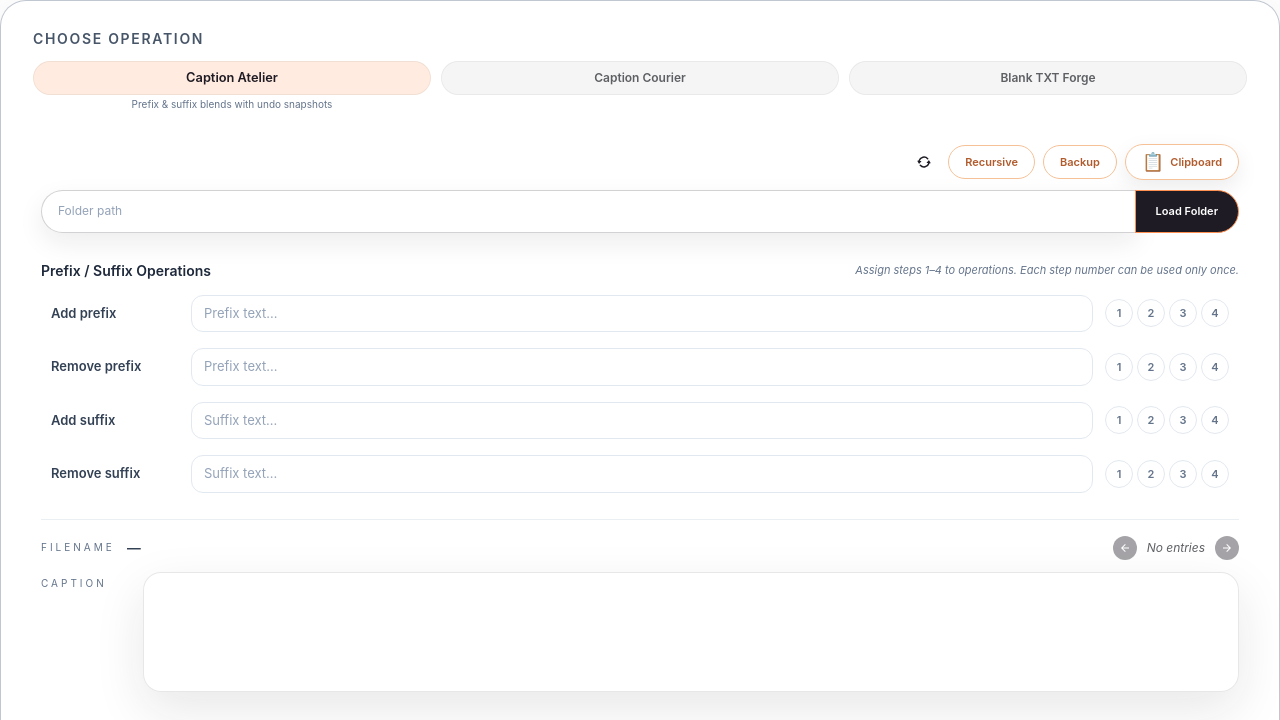
Test: DatasetActionsDashboard › shows step hints, toggles backup, and cycles the paginator
The image size is (1280, 720).
Click the button "1" in the row of "Add prefix": x=1119, y=313 1105,299 -> 1133,327
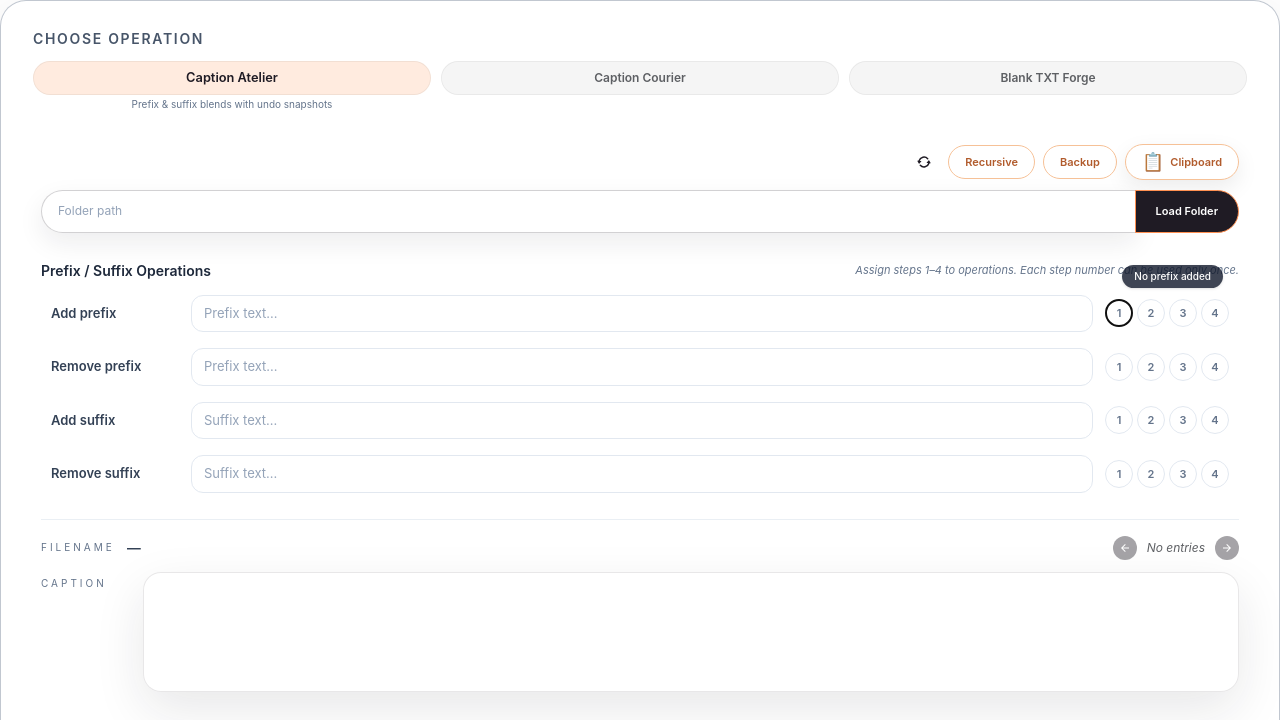
Expected: the text "No prefix added" is shown, 1122,264 -> 1223,288
Click the button "Backup": x=1080, y=162 1043,145 -> 1117,179
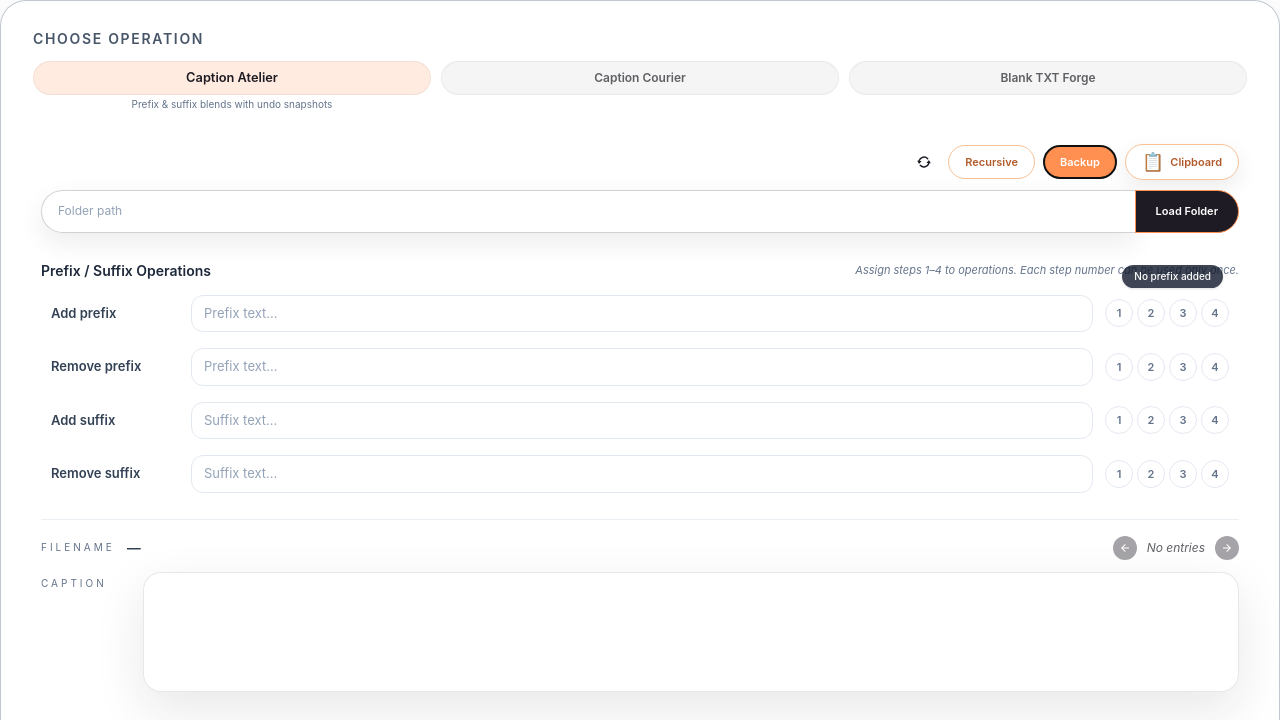
Expected: the button "Backup" has class "text-white", 1043,145 -> 1117,179
In the field named "caption folder path": x=588, y=211 41,190 -> 1136,232, type "/tmp/dataset"
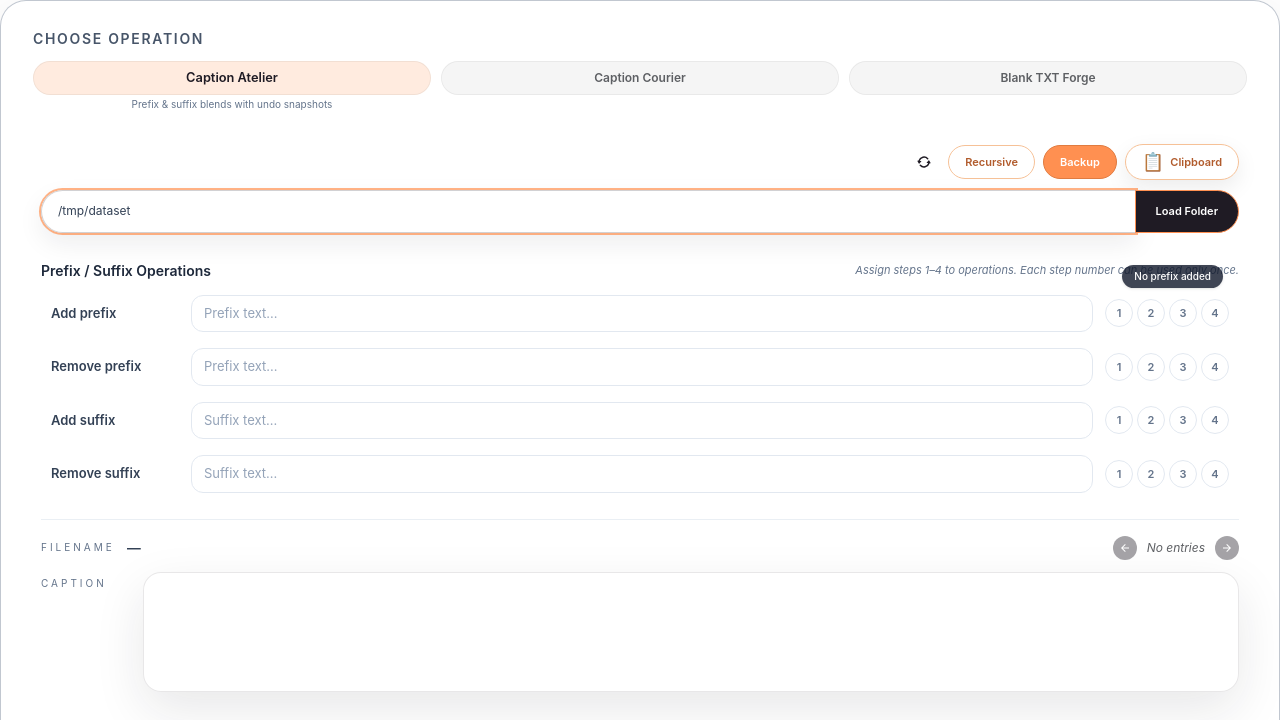
Click the button "Load Folder": x=1187, y=211 1135,190 -> 1239,232
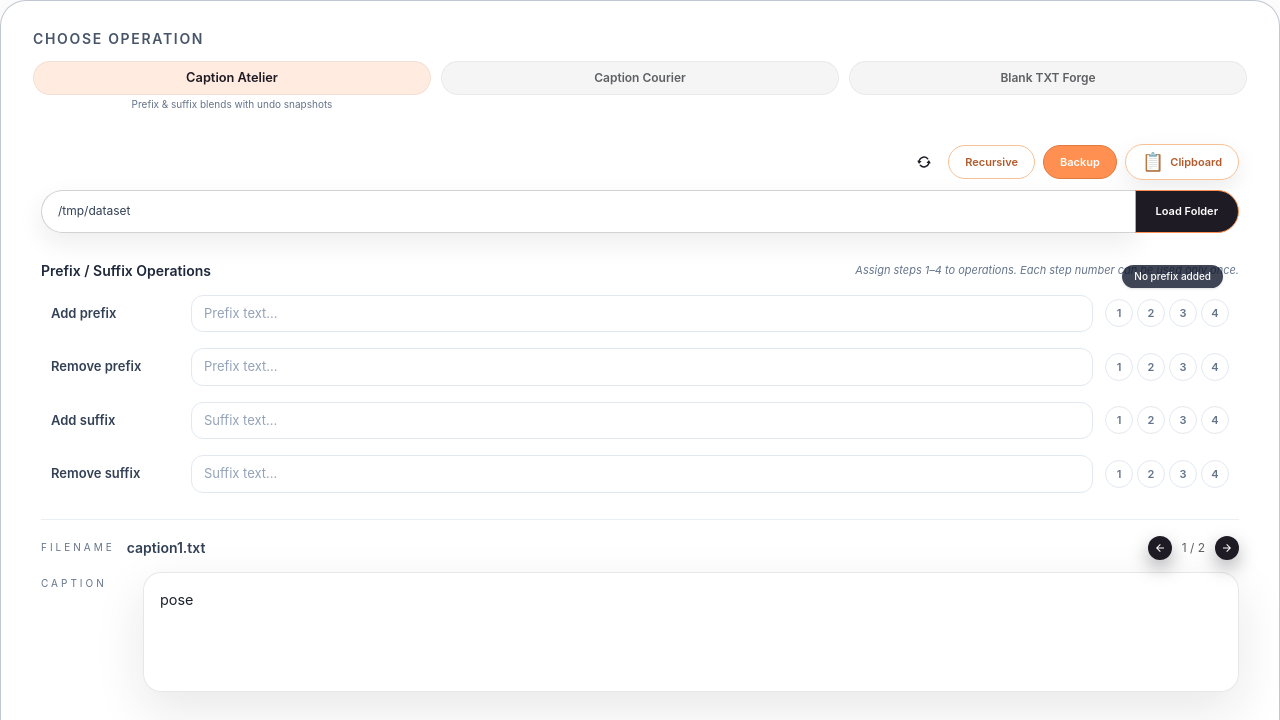
Expected: the text "caption1.txt" is shown, 127,538 -> 205,558
Click the button named "Next": x=1227, y=548 1215,536 -> 1239,560
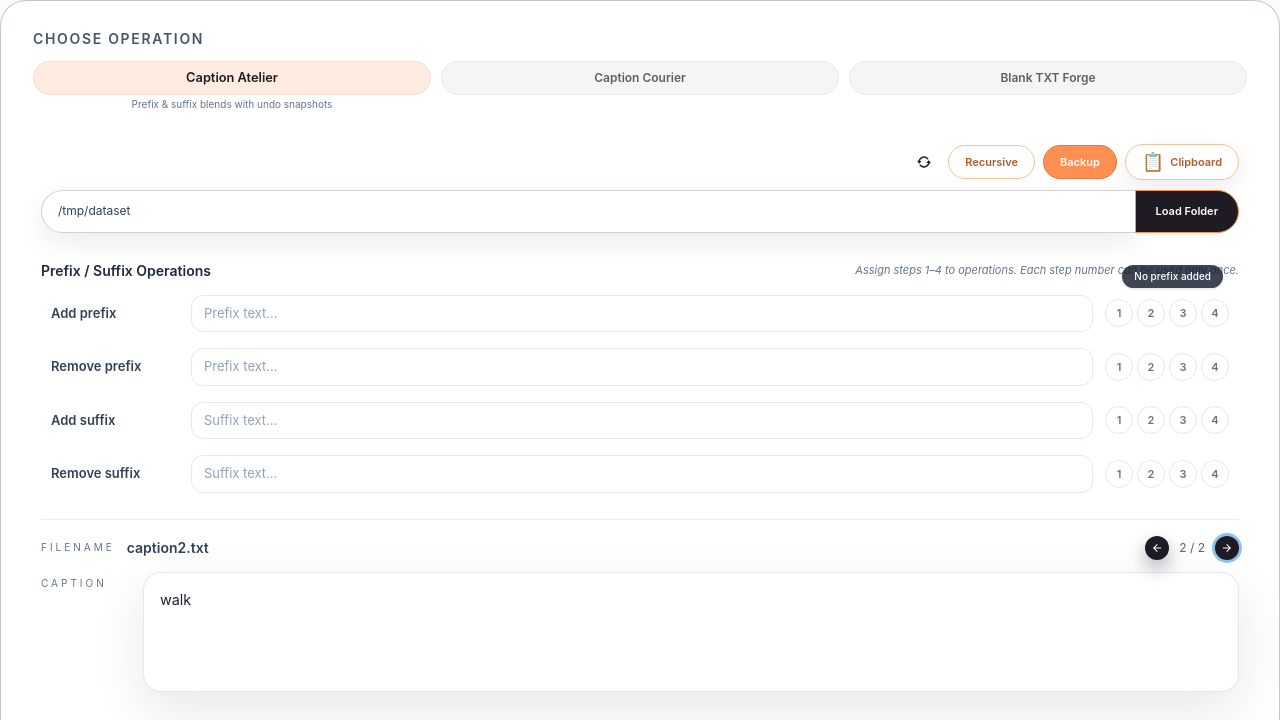
Expected: the text "caption2.txt" is shown, 127,538 -> 209,558
Click the button named "Previous": x=1157, y=548 1145,536 -> 1169,560
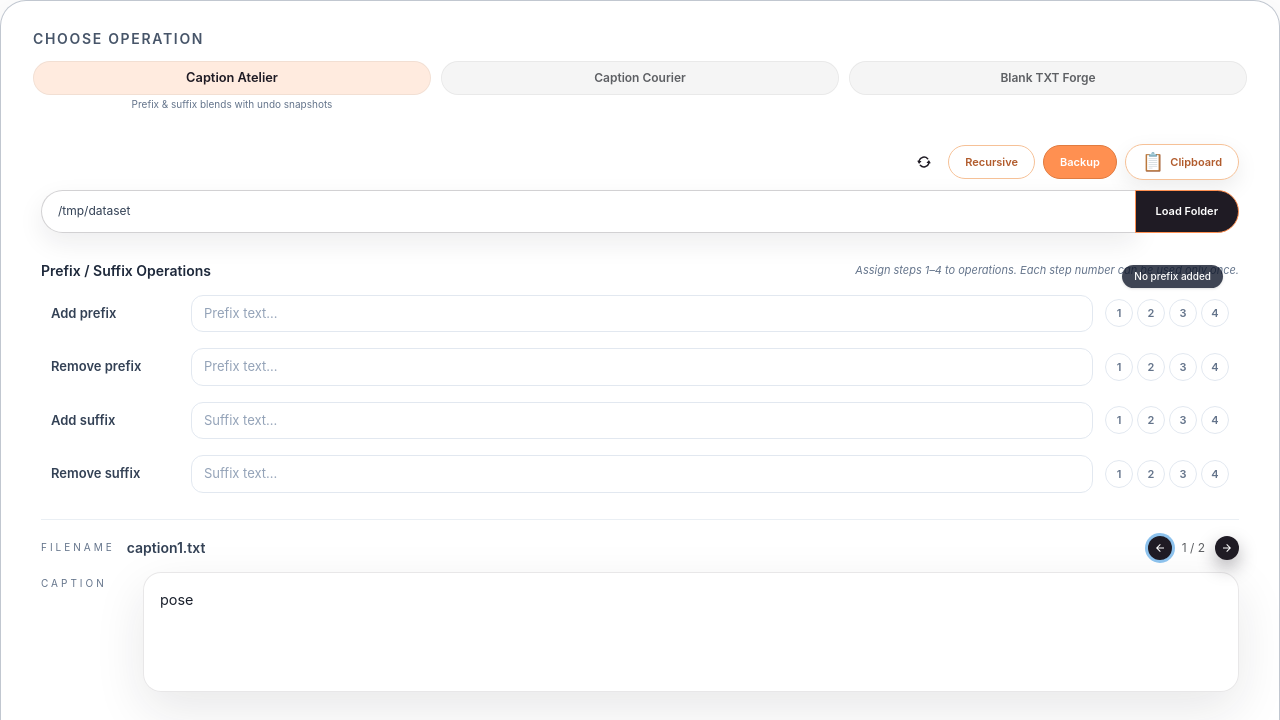
Expected: the text "caption1.txt" is shown, 127,538 -> 205,558
